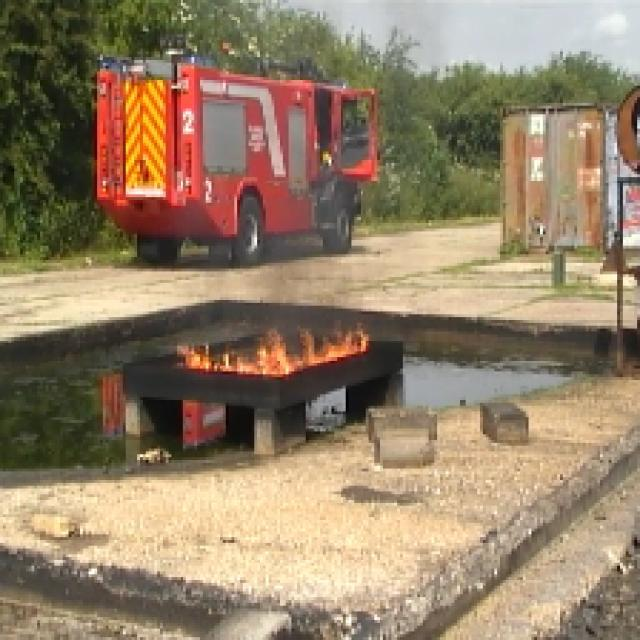Fire: (176, 326, 371, 381)
